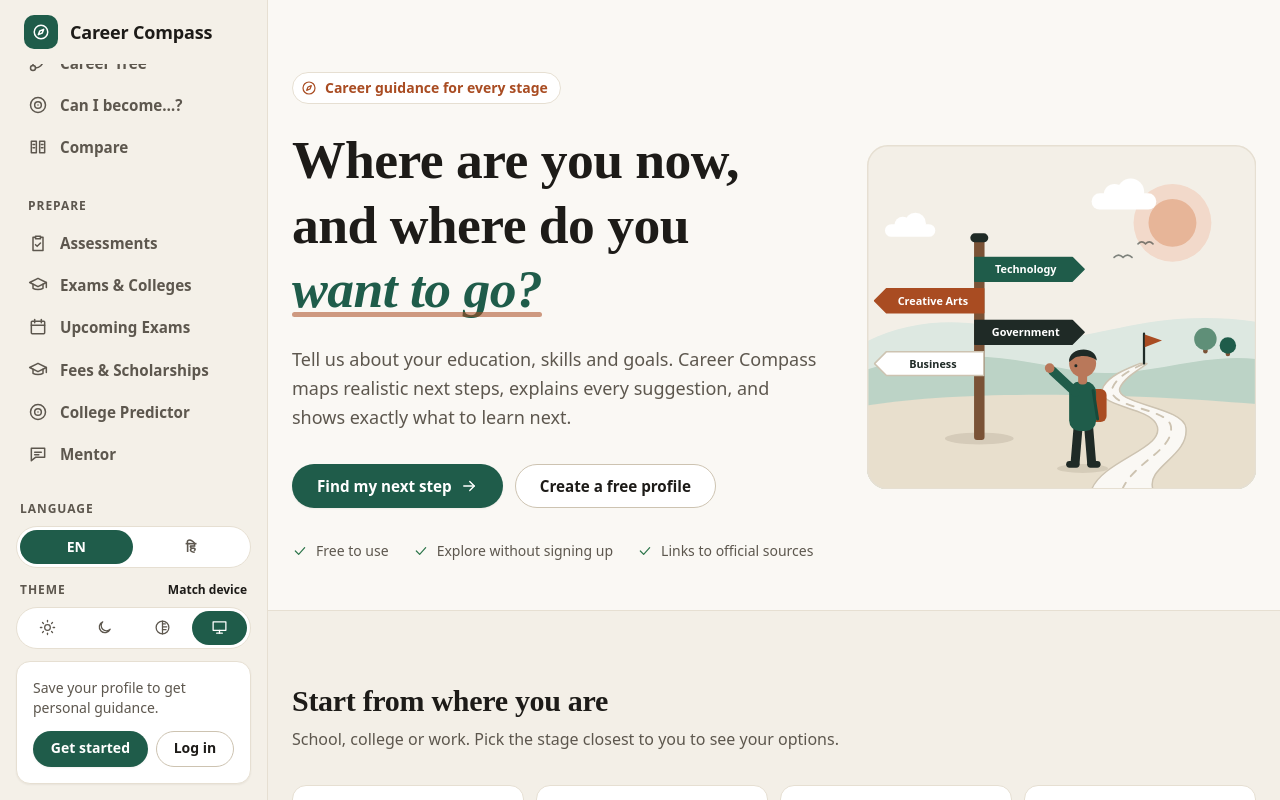
Test: Themes › the picker in the menu applies and saves the choice
(page scrolled)
Check: the radio button named "Match device" is checked, box [192, 611, 247, 645]
Check: the element "Theme Match device" is shown, box [16, 580, 251, 649]
Click the radio button named "Dark" at (105, 628), box [96, 619, 113, 636]
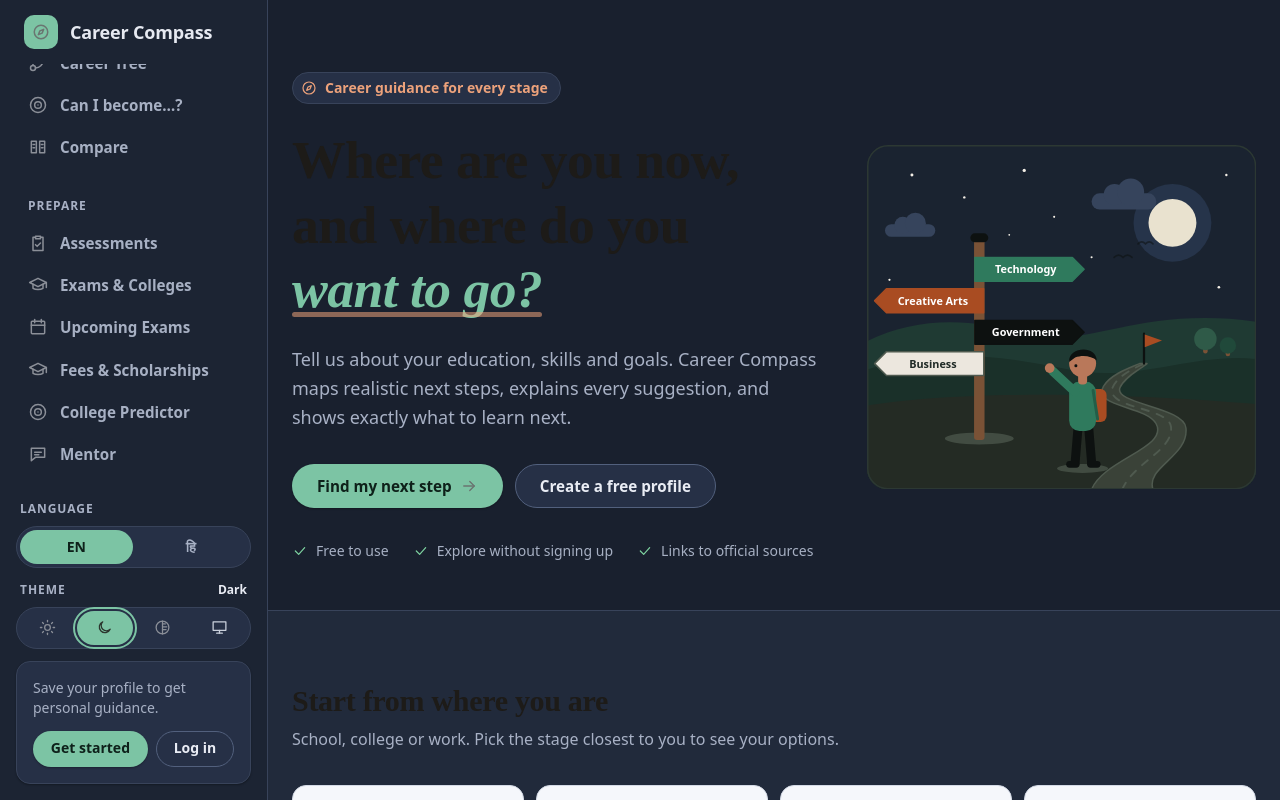
Check: the radio button named "Dark" is checked, box [77, 611, 133, 645]
Click the radio button named "High contrast" at (162, 628), box [154, 619, 171, 636]
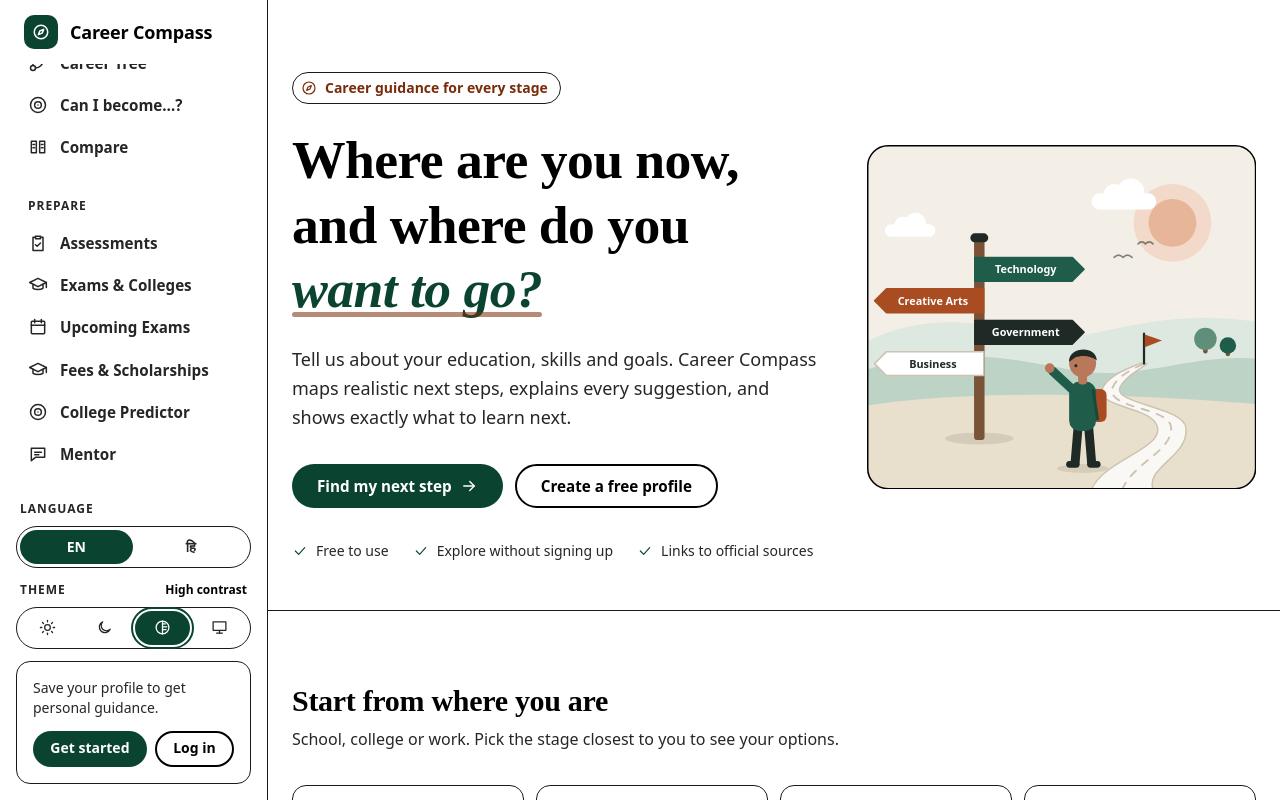
Check: the element "Theme High contrast" is shown, box [16, 580, 251, 649]
